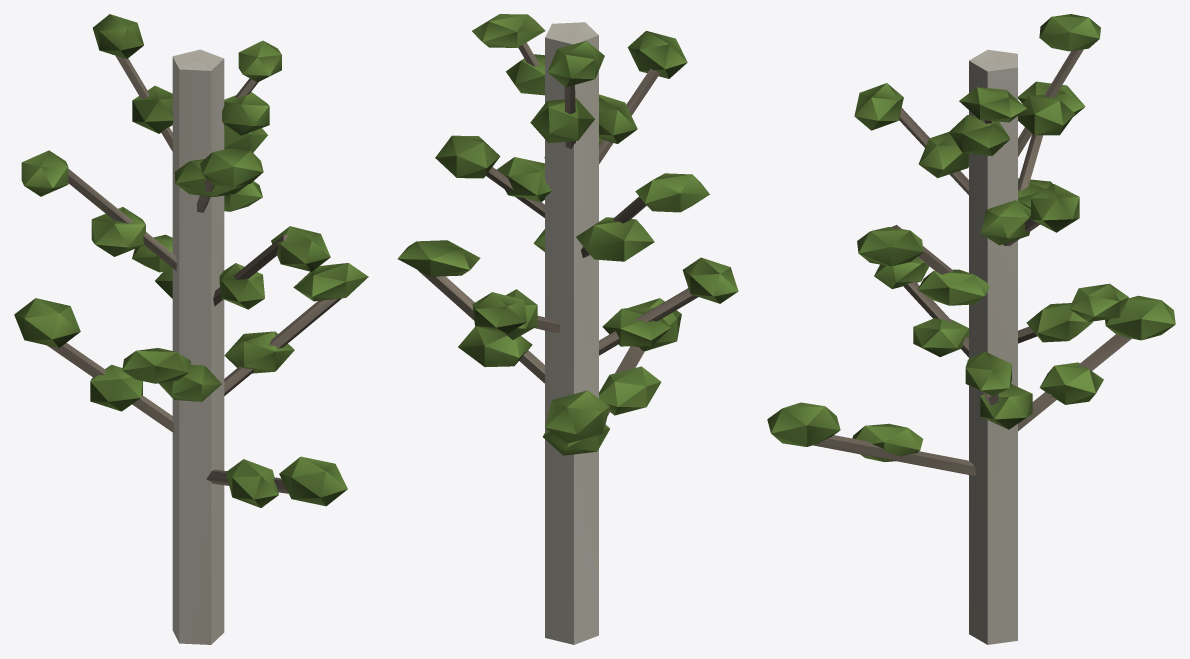
File: mature-lod2.glb
3 views of the same model, side by side, from view 1: azimuth 30°, elevation 25°; view 2: azimuth 150°, elevation 25°; view 3: azimuth 270°, elevation 25° (orthographic). The views are drawn at different scales.
Parts seen in each view (by area): view 1: birch-bark-branches-leaf-masses; view 2: birch-bark-branches-leaf-masses; view 3: birch-bark-branches-leaf-masses.
Part boxes in pixels (left/top/right/bottom): birch-bark-branches-leaf-masses: left=14, top=14, right=368, bottom=644; birch-bark-branches-leaf-masses: left=397, top=14, right=738, bottom=644; birch-bark-branches-leaf-masses: left=767, top=14, right=1175, bottom=644.
Size of the model in its own units: 11.27 by 20.28 by 12.59.
